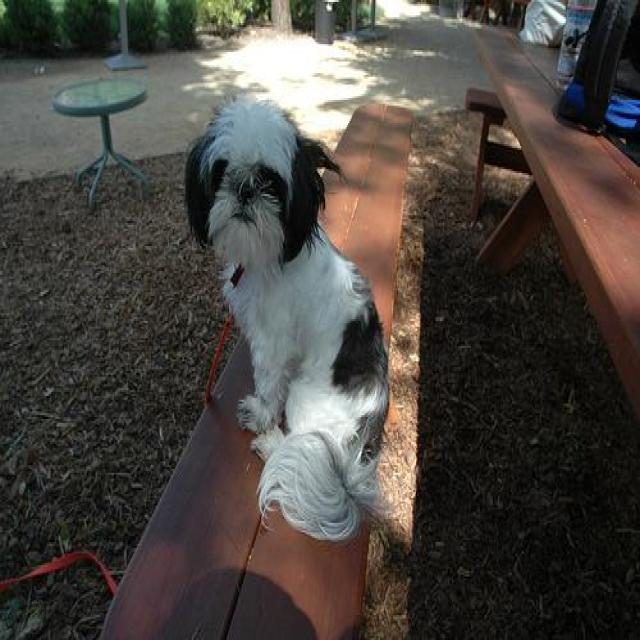shih_tzu: (179, 92, 398, 542)
